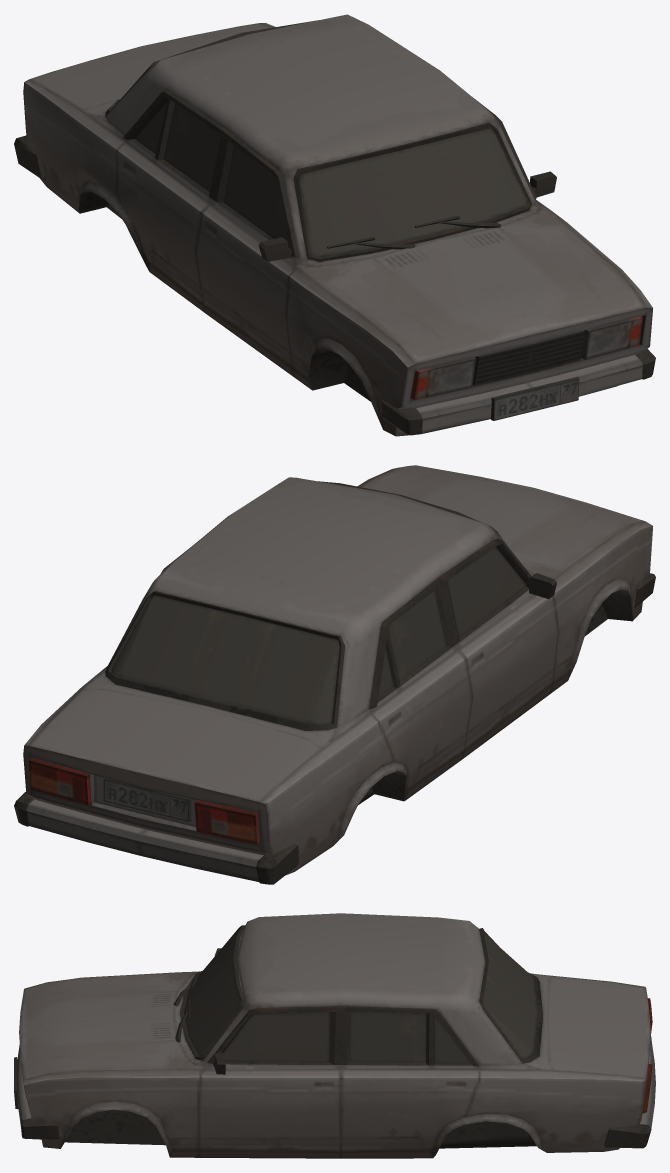
The model's file is vaz_2105.fbx.
3 views of the same model, one above another, from view 1: azimuth 30°, elevation 25°; view 2: azimuth 150°, elevation 25°; view 3: azimuth 270°, elevation 25° (orthographic). The views are drawn at different scales.
Parts seen in each view (by area): view 1: bz_vaz2105; view 2: bz_vaz2105; view 3: bz_vaz2105.
Boxes of the visible parts, bbox=[...] form: bz_vaz2105: bbox=[14, 14, 655, 436]; bz_vaz2105: bbox=[14, 465, 655, 884]; bz_vaz2105: bbox=[14, 913, 655, 1158].
Bounding box in the file's own units: 1.78 × 1.2 × 4.17.
